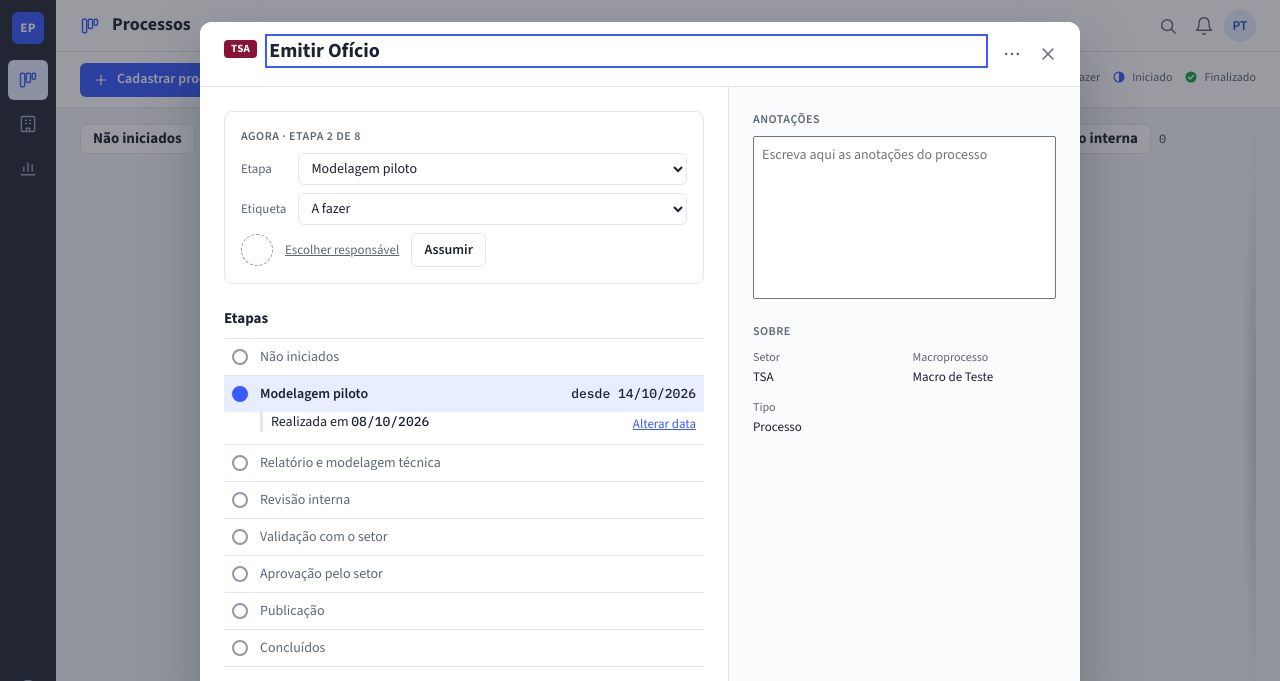
it: [Salvar] desabilitado com o campo vazio e com a data igual à gravada
Click the button "Alterar data". click: (664, 424)
box: [633, 412, 696, 436]
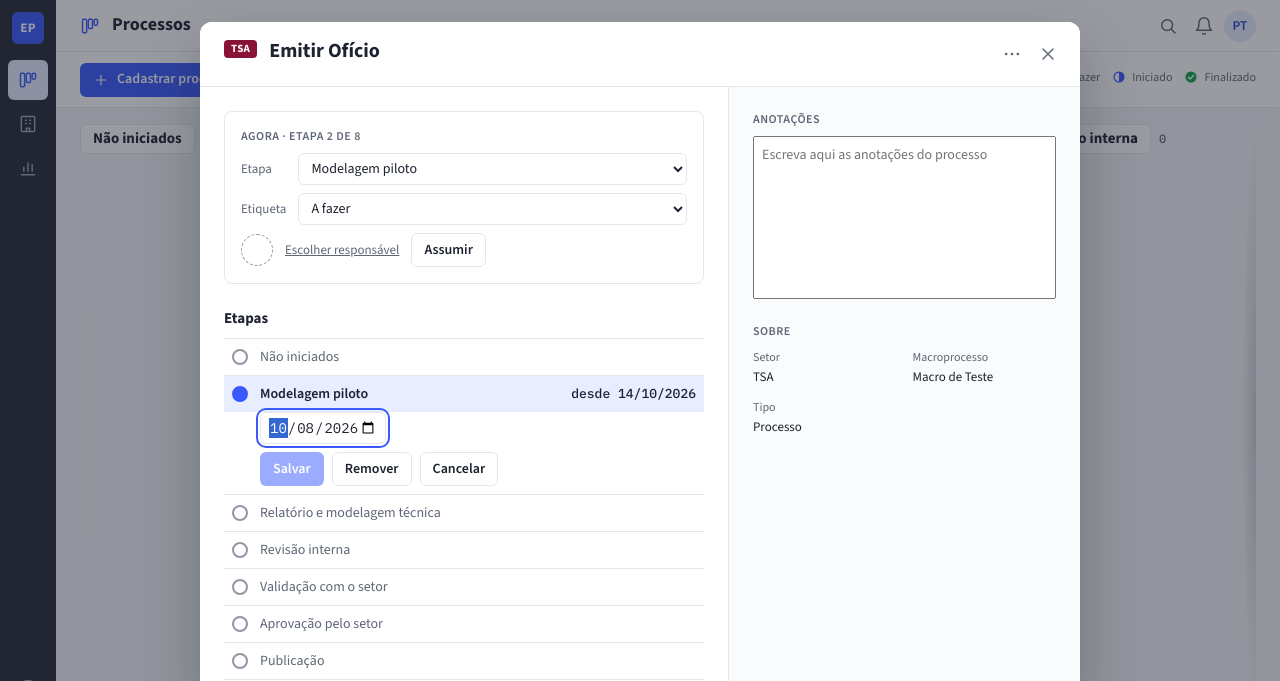
expect the button "Salvar" is disabled: met, box [260, 452, 324, 486]
Clear the date field named "Data da modelagem piloto". click: (323, 428)
box: [260, 412, 386, 444]
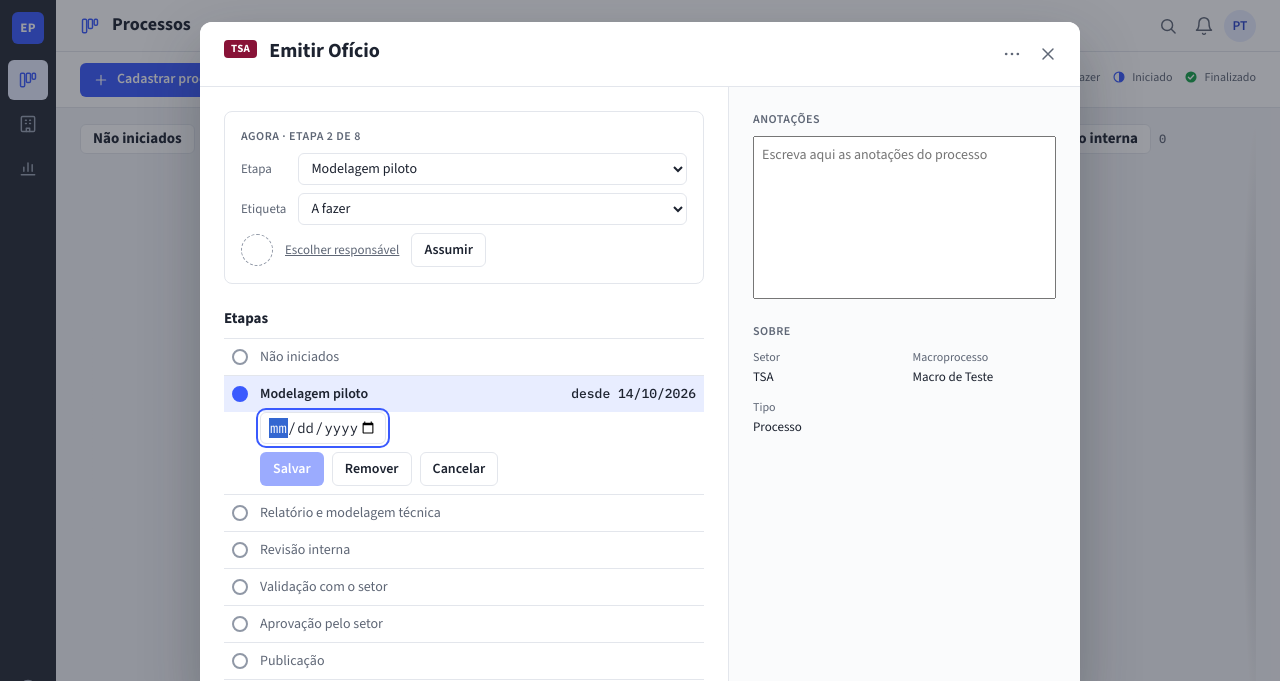
expect the button "Salvar" is disabled: met, box [260, 452, 324, 486]
Type "2026-10-09" into the date field named "Data da modelagem piloto". click: (323, 428)
box: [260, 412, 386, 444]
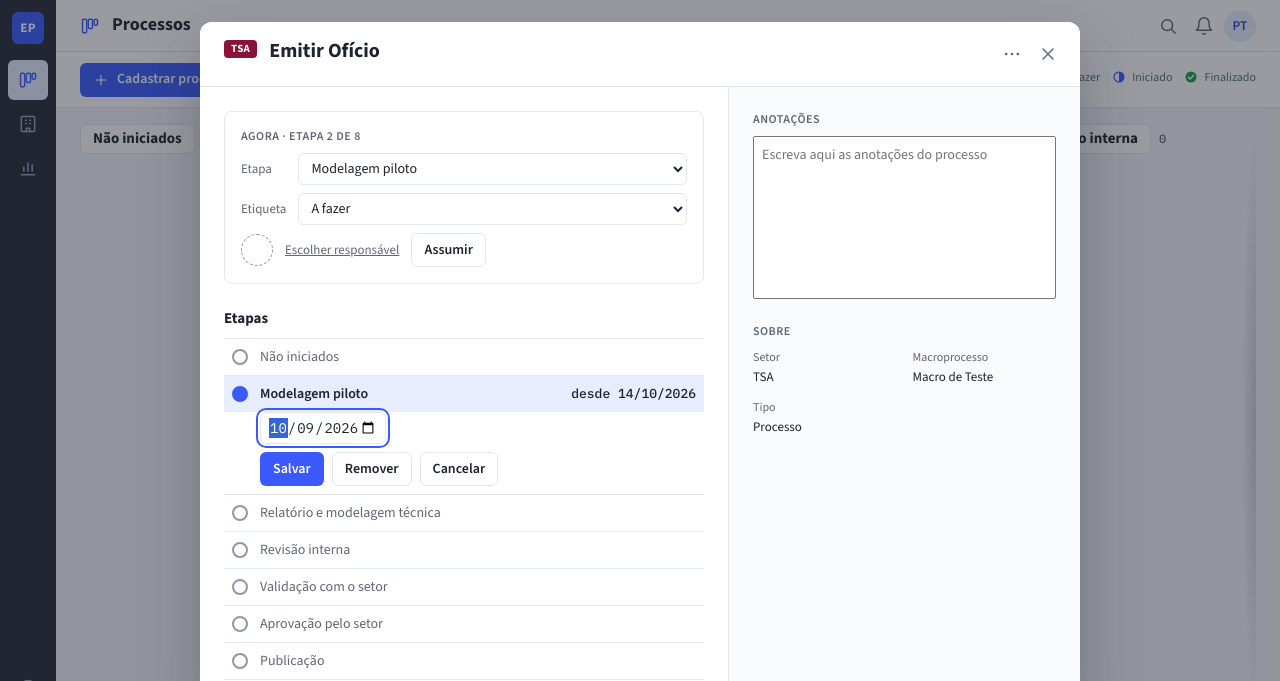
expect the button "Salvar" is enabled: met, box [260, 452, 324, 486]
